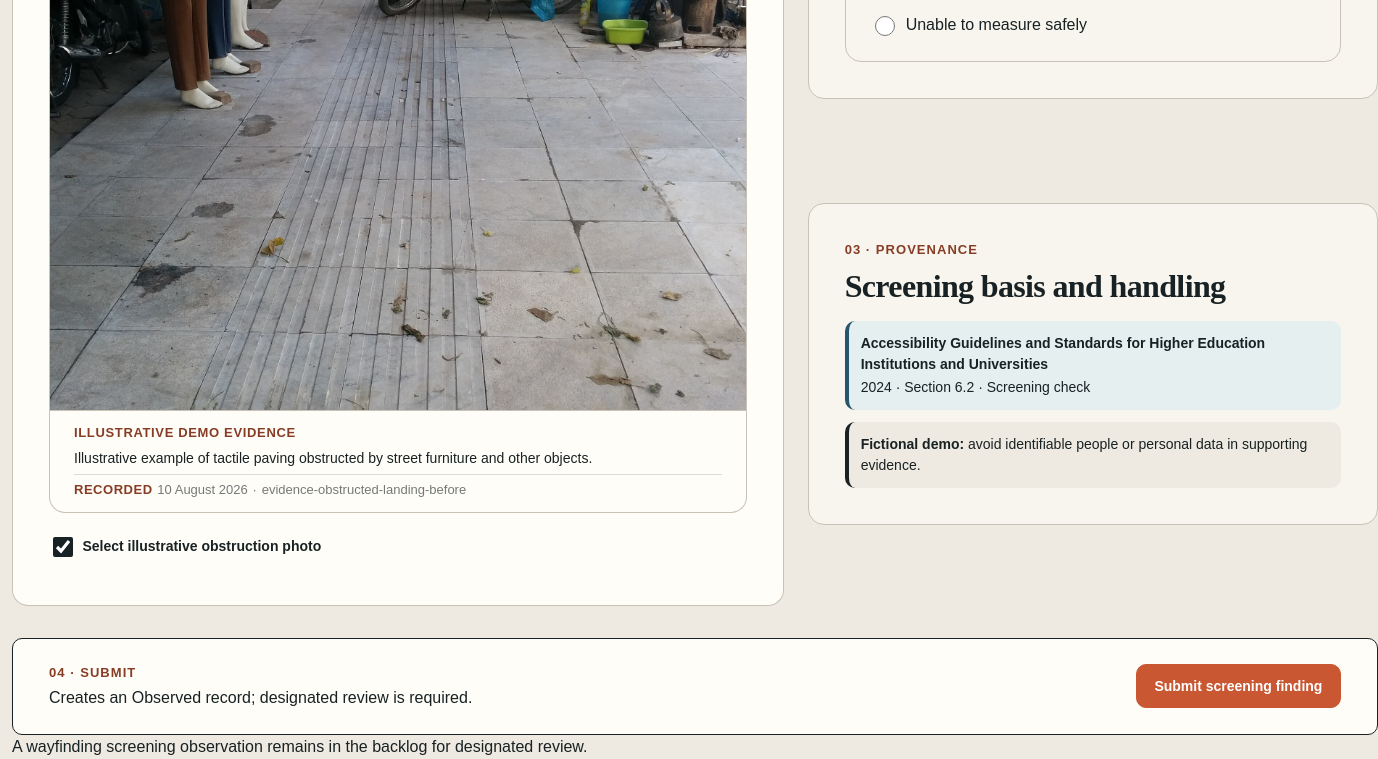
Test: guided audit › submits only the displayed clear-width measurement provenance
The width and height of the screenshot is (1378, 759).
(page scrolled)
Click the button "Submit screening finding": x=1238, y=686 [1136,664,1341,708]
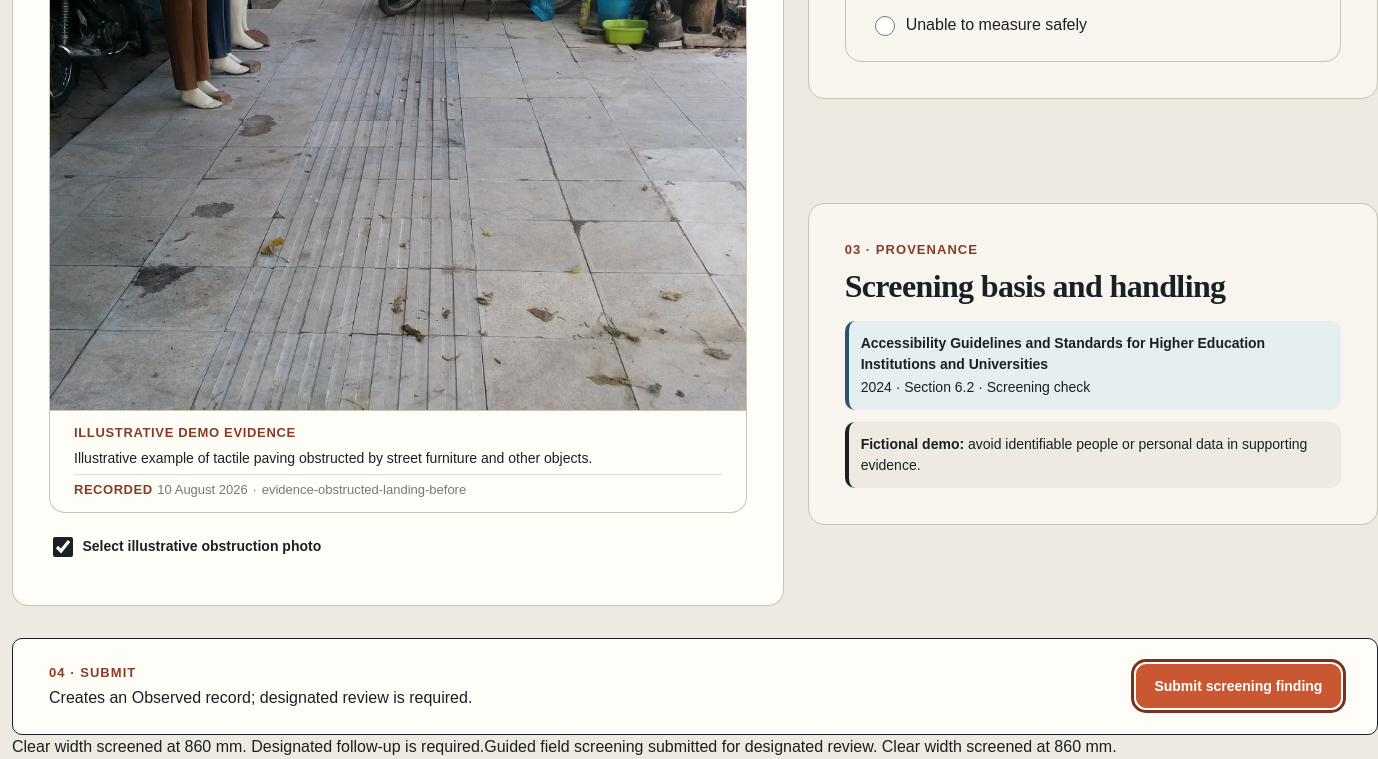
Now the text with test id "record" shows "Clear width screened at 860 mm", box [12,738,484,755]
Now the text with test id "event" shows "clear width screened at 860 mm", box [484,738,1116,755]
